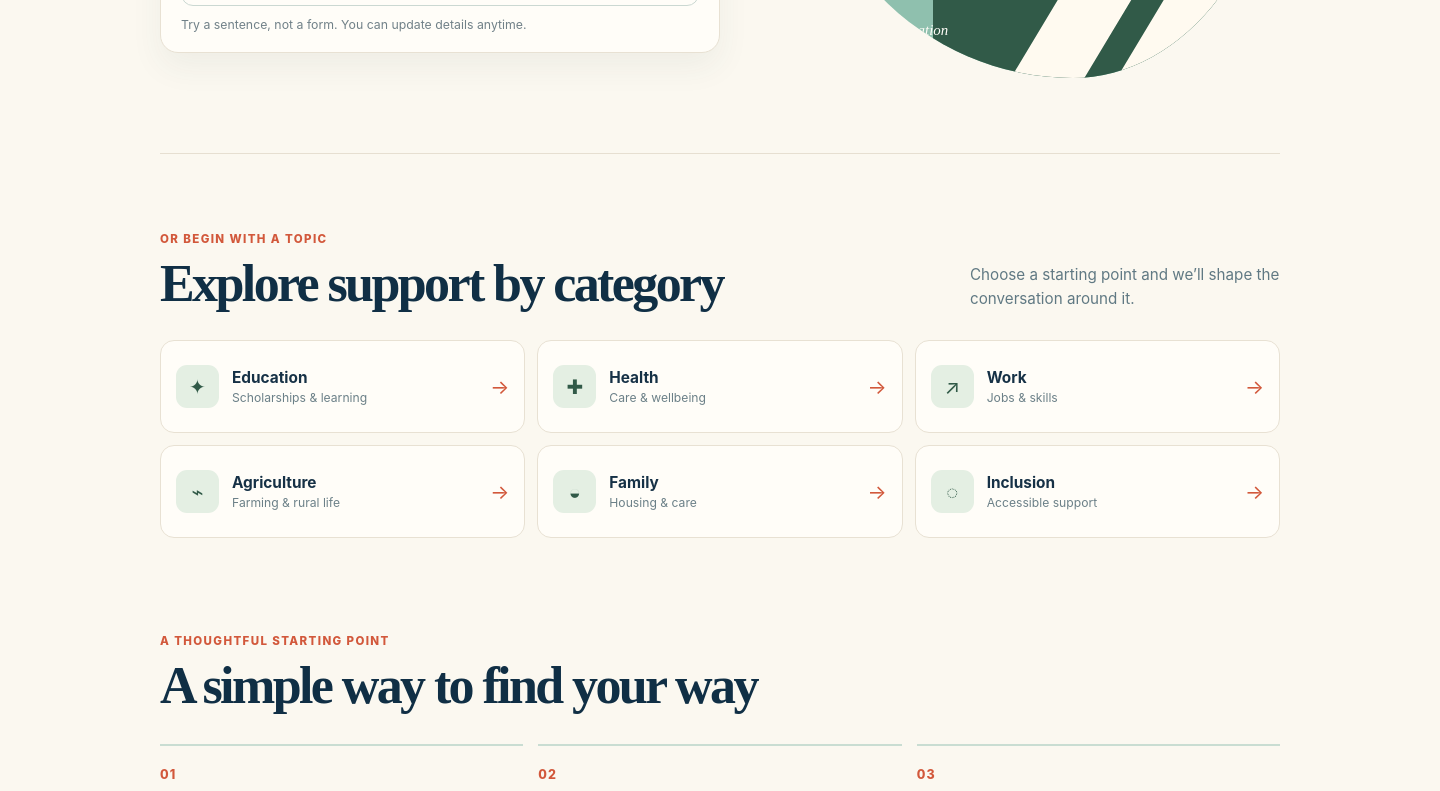
it: App › uses a category shortcut to start a conversation
(page scrolled)
Click the button "✦ Education Scholarships & learning →" at (198, 387), box top-left (160, 340), bottom-right (525, 433)
(page scrolled)
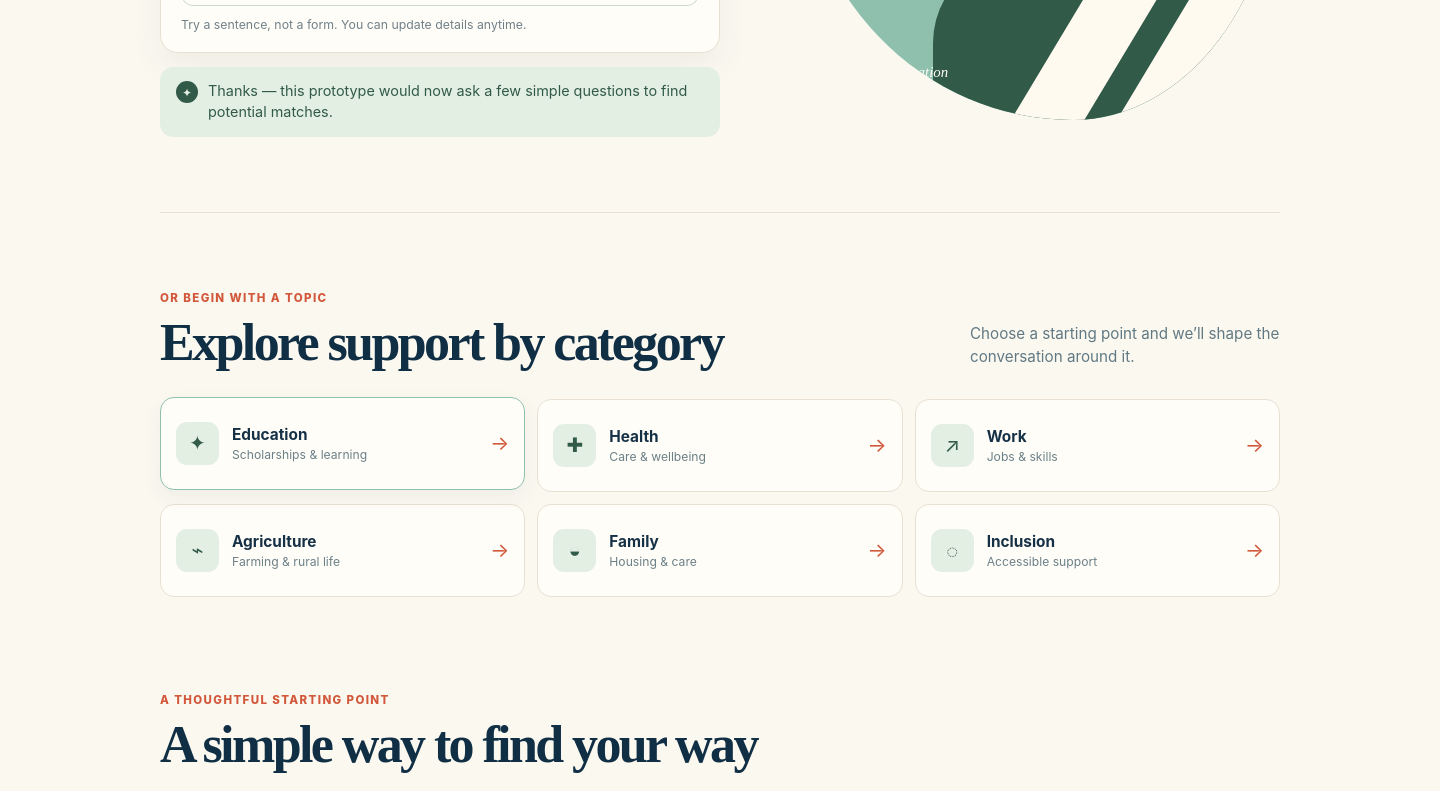
Check: the element named "Conversation preview" is shown, box top-left (160, 67), bottom-right (720, 137)
